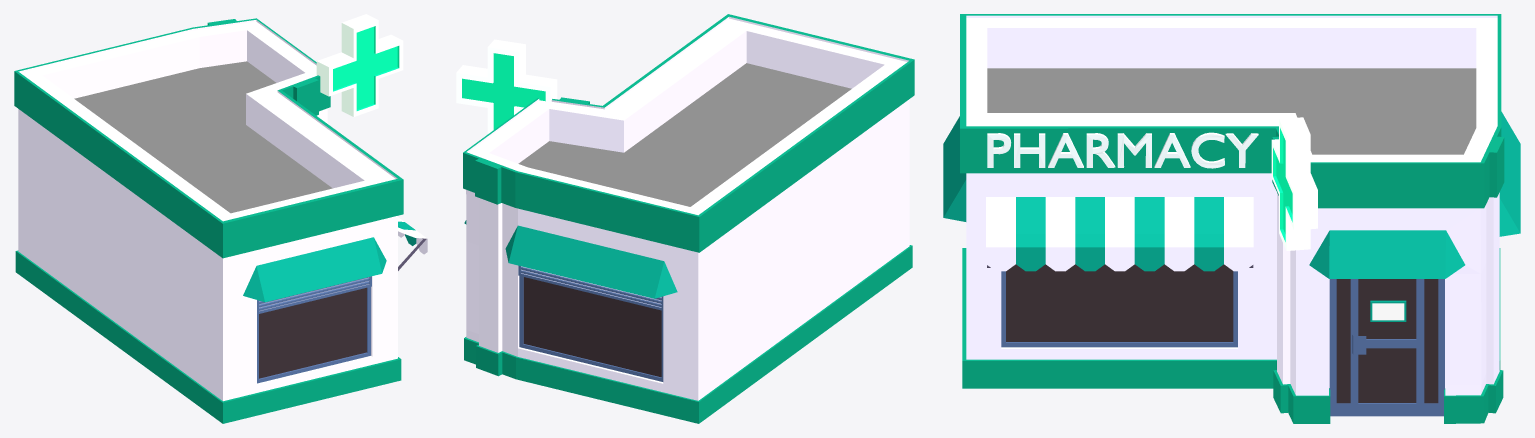
File: pharmacy_night.glb
The picture shows the model from 3 angles, left to right: view 1: azimuth 30°, elevation 25°; view 2: azimuth 150°, elevation 25°; view 3: azimuth 270°, elevation 25°; orthographic projection. The views are drawn at different scales.
Visible parts, largest first — view 1: PublicBuilding_Pharmacy; view 2: PublicBuilding_Pharmacy; view 3: PublicBuilding_Pharmacy.
Boxes of the visible parts, x1,y1,x2,y2 form: PublicBuilding_Pharmacy: (14,14,427,423); PublicBuilding_Pharmacy: (456,14,914,423); PublicBuilding_Pharmacy: (943,14,1520,423).
Bounding box in the file's own units: 0.727 × 0.5482 × 0.9061.
Materials: 1 (1 with a texture image).
